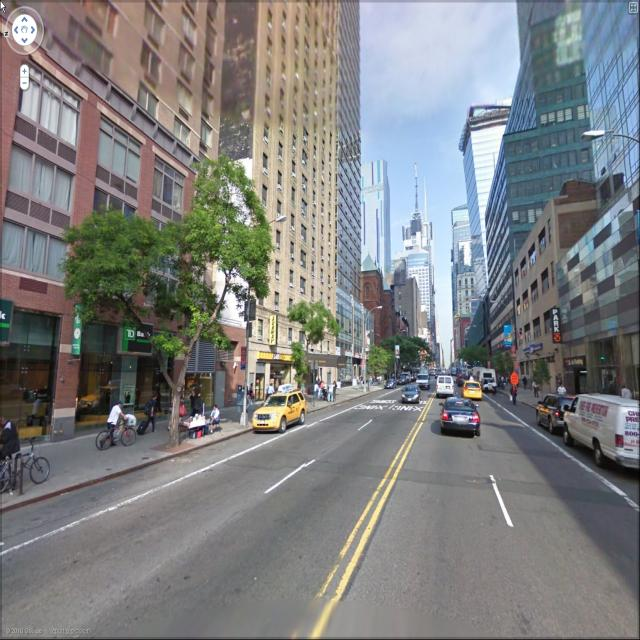b_1: (4, 1, 197, 219), (569, 1, 640, 387), (266, 1, 338, 320), (458, 96, 520, 312), (335, 2, 368, 338), (387, 198, 446, 366)
b_2: (78, 128, 257, 451), (300, 312, 433, 388), (456, 316, 527, 394)
